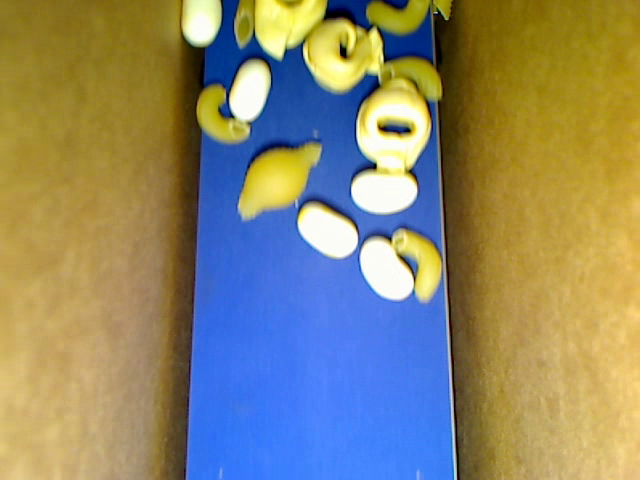elbow: (389, 226, 441, 303), (197, 84, 250, 144), (378, 57, 443, 102), (366, 1, 430, 37)
penne: (233, 1, 255, 50)
shell: (236, 140, 322, 220)
tortellini: (355, 77, 432, 174), (302, 18, 383, 94), (255, 1, 327, 64)
